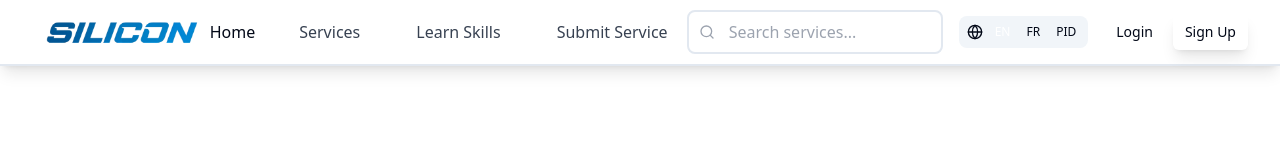
Test case: Navbar Component › hides suggestions when clicking outside the search input and suggestions list
This screenshot has width=1280, height=160.
Type "Gamma" into the field with placeholder "Search services..." at (815, 32), box [687,10,943,54]
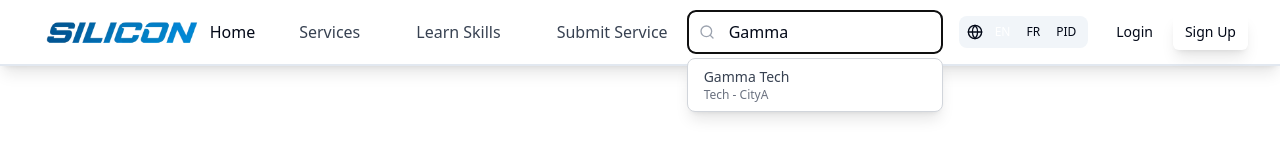
Expected: the list item "Gamma Tech" is shown, [704,67,790,86]
Press the mouse on the element that starts with "Home" at (640, 33), box [0,0,1279,66]
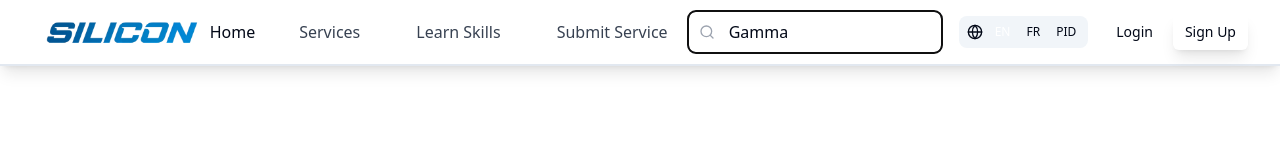
Expected: the list is gone
